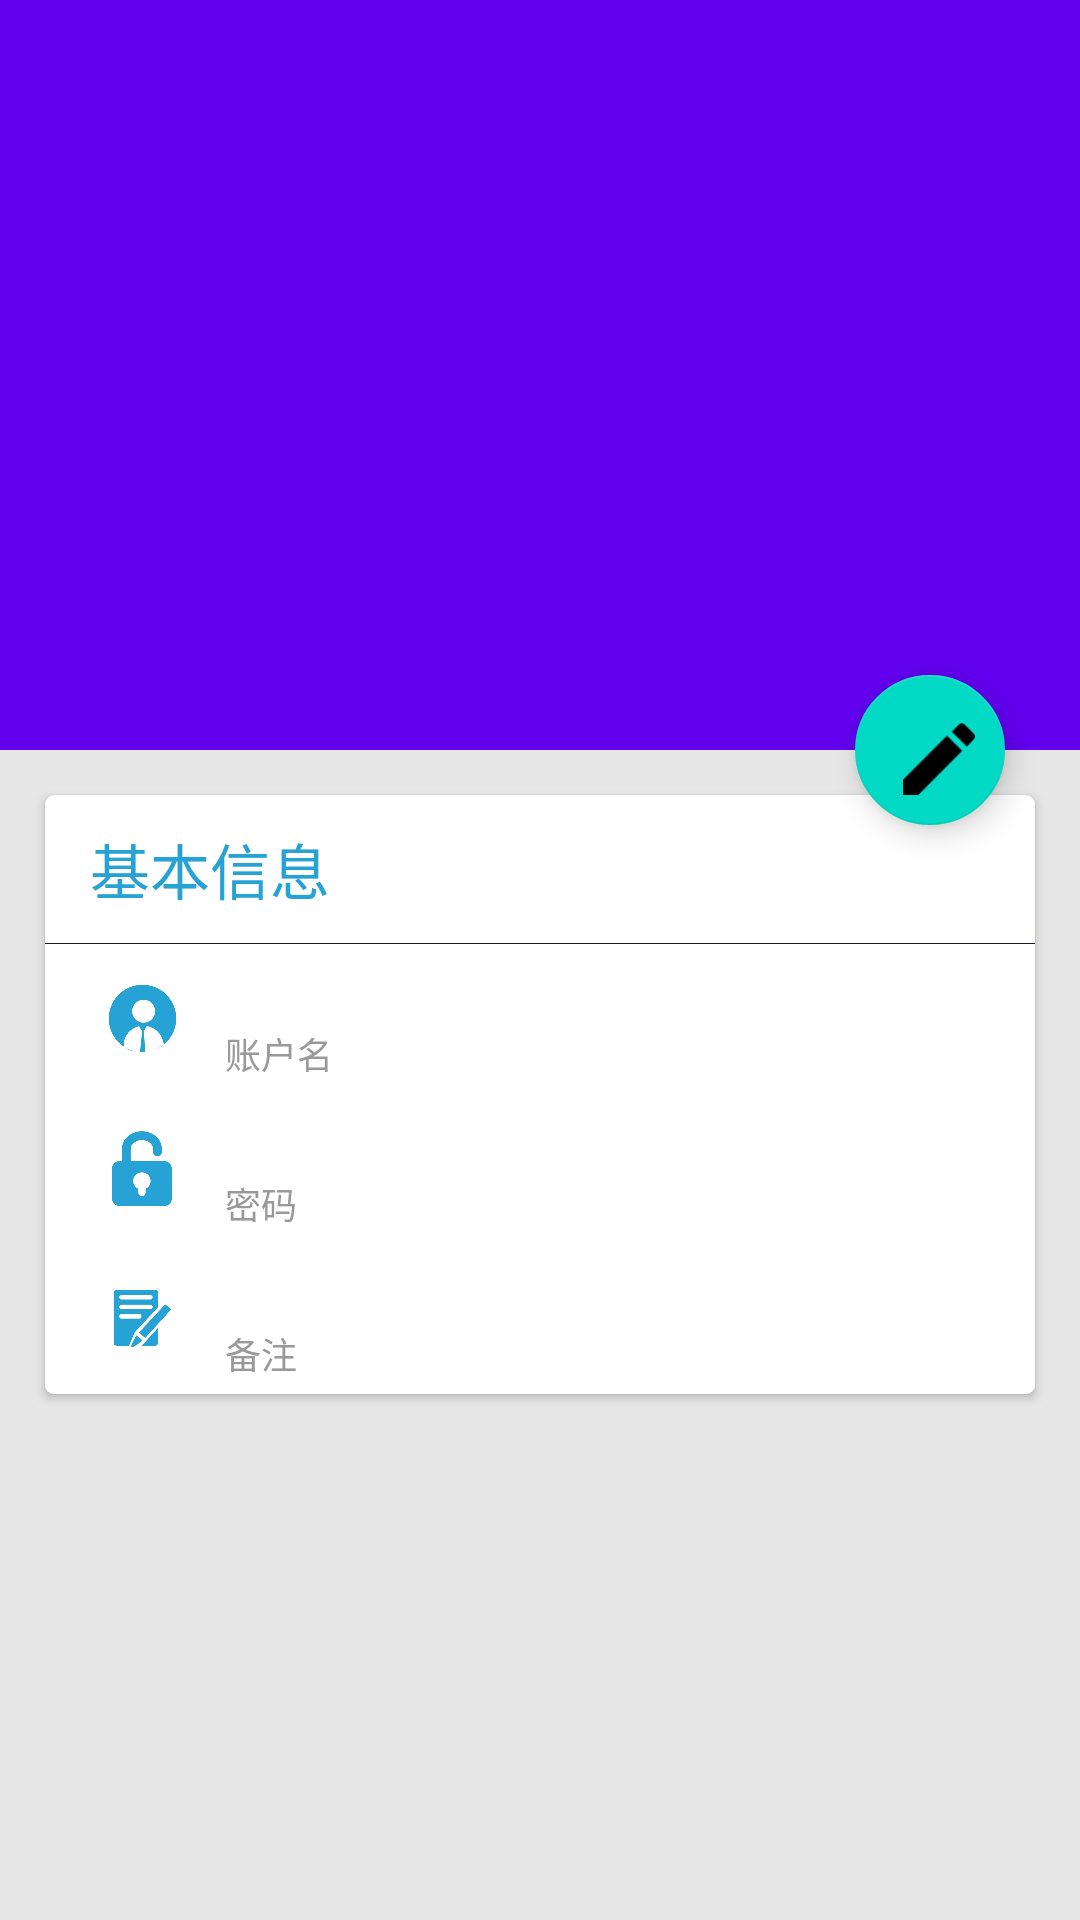

Where to tap for icons on this 1080px x 1920px app screen, as (x,y):
beizhu: (142,1318)
mimakey: (142,1168)
xiugai: (930,750)
